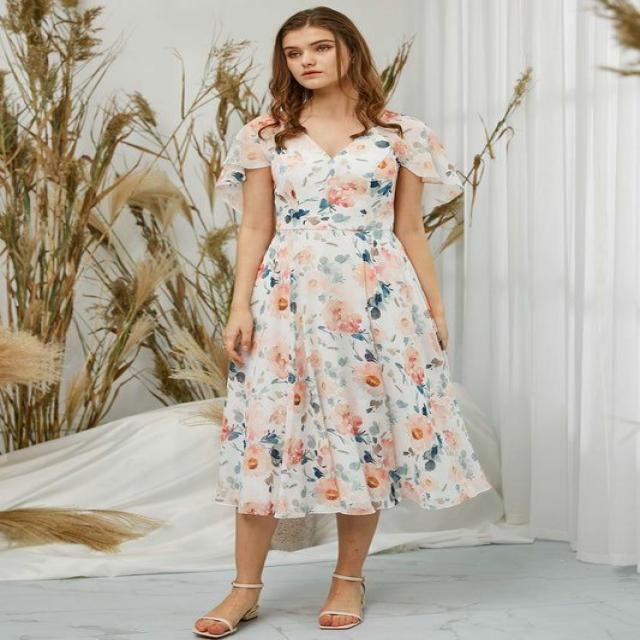female-dress: (218, 120, 506, 526)
